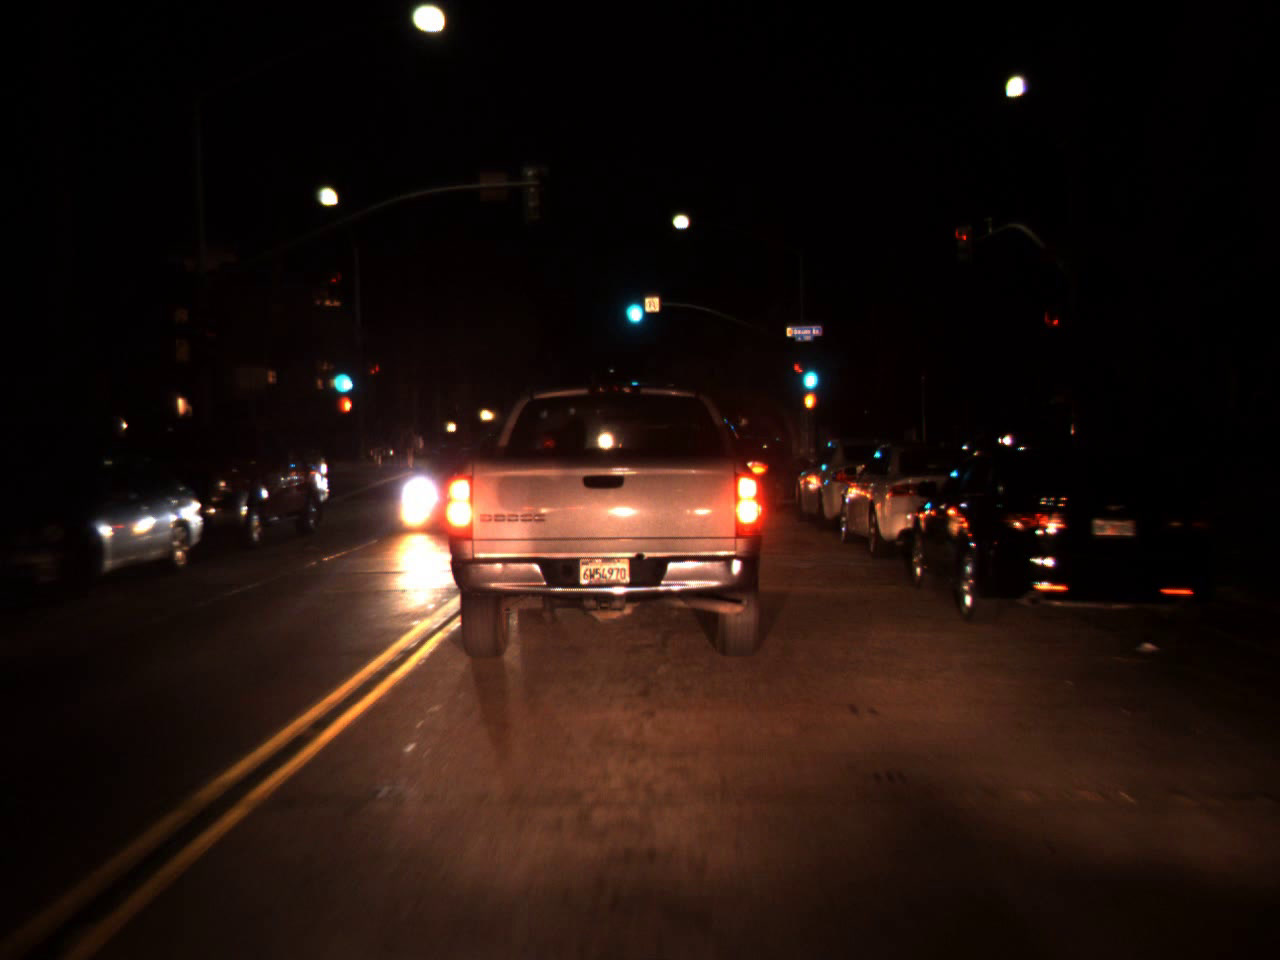go: (619, 279, 646, 330), (329, 349, 354, 400), (797, 348, 820, 396)
